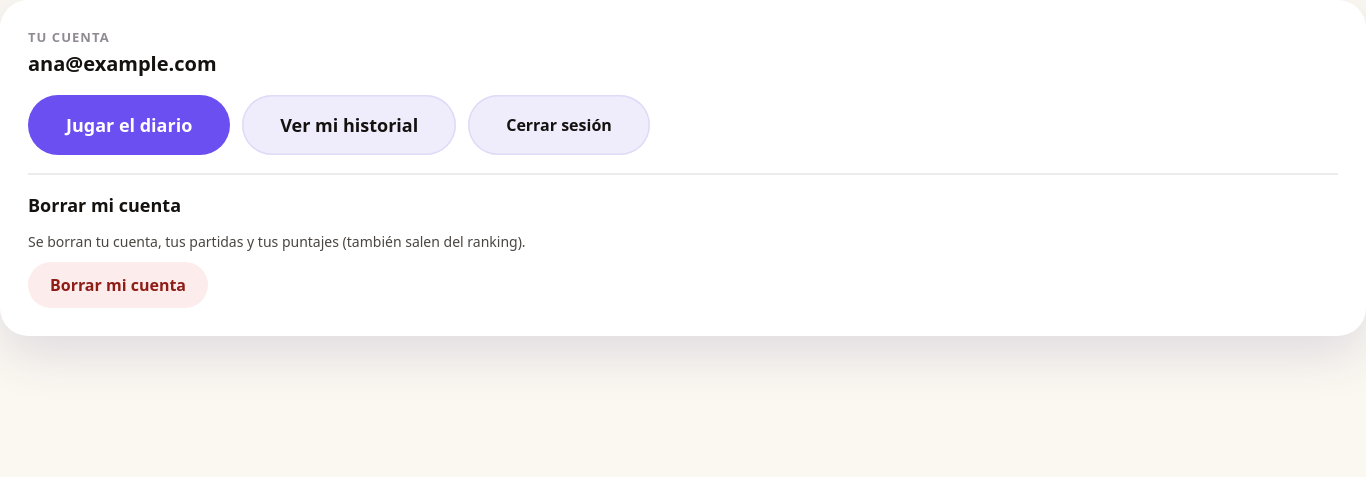
PanelCuenta › borrar la cuenta › borra la cuenta, la sesión y el historial de este dispositivo
Click the button "Borrar mi cuenta". click: (118, 285)
box: [28,262,208,308]
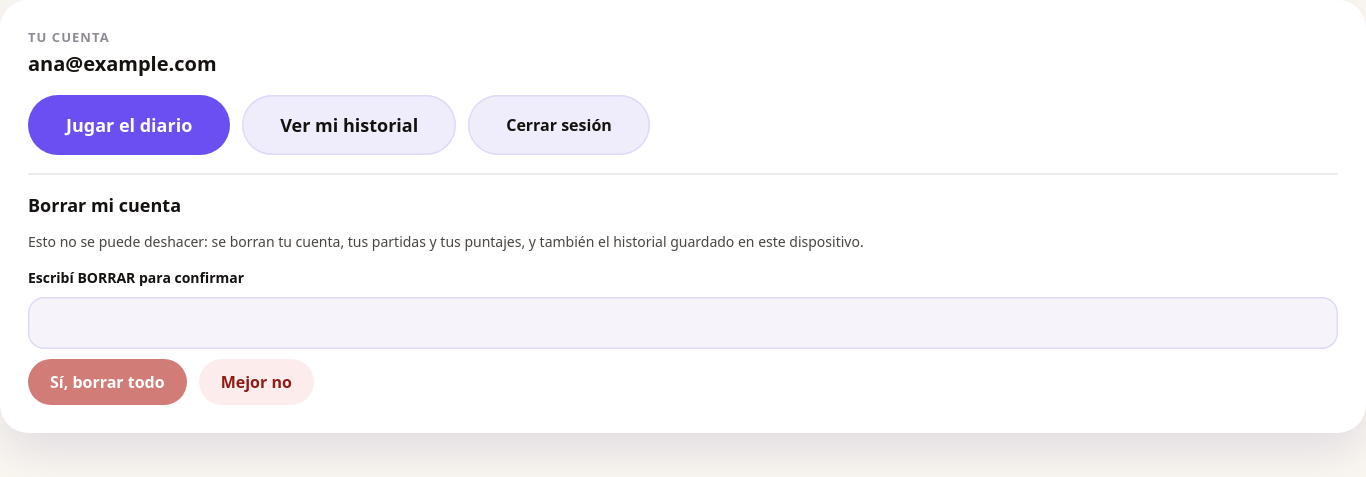
Type "BORRAR" into the field labelled "Escribí BORRAR para confirmar". click: (683, 323)
box: [28,297,1338,349]
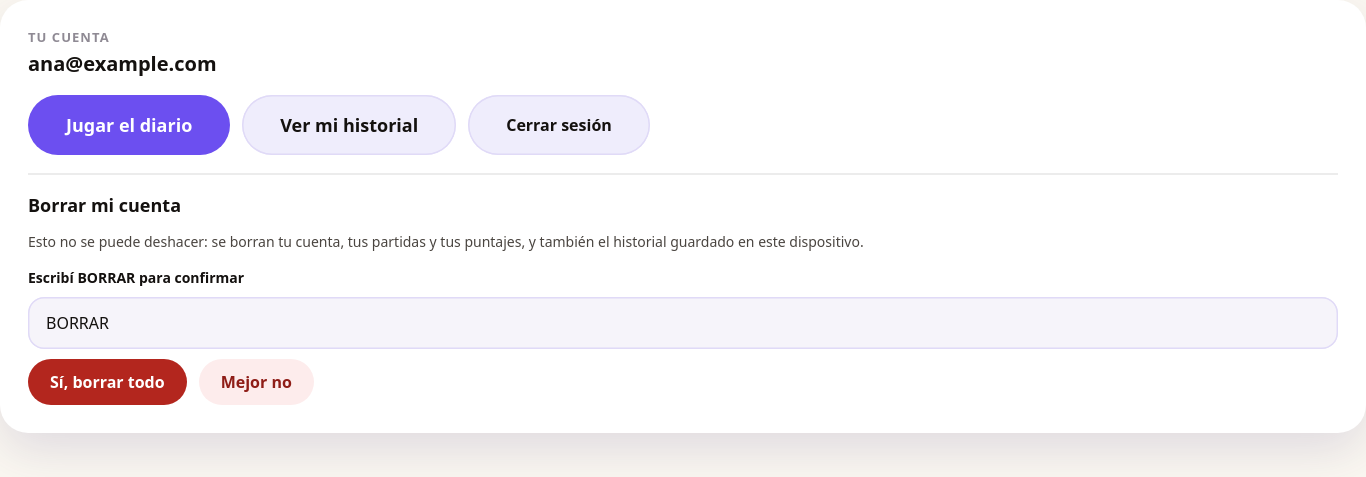
Click the button "Sí, borrar todo". click: (107, 382)
box: [28,359,187,405]
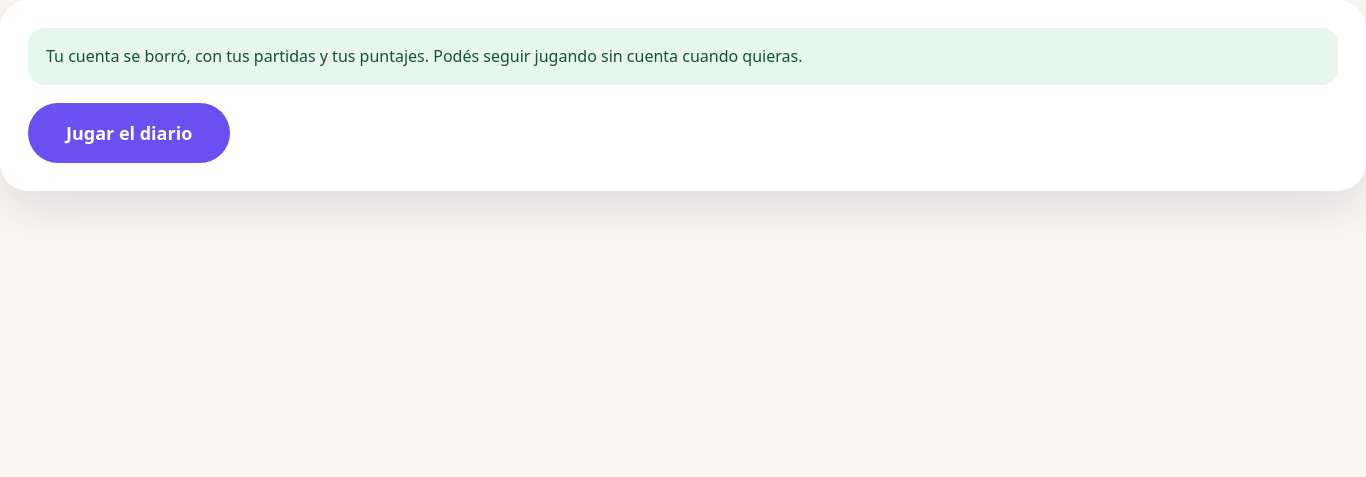
Expected: the message shows "Tu cuenta se borró", [46,45,802,67]
